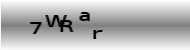7: (27, 21, 43, 35)
R: (58, 19, 73, 34)
W: (43, 14, 67, 28)
a: (78, 12, 92, 22)
r: (91, 28, 103, 40)
